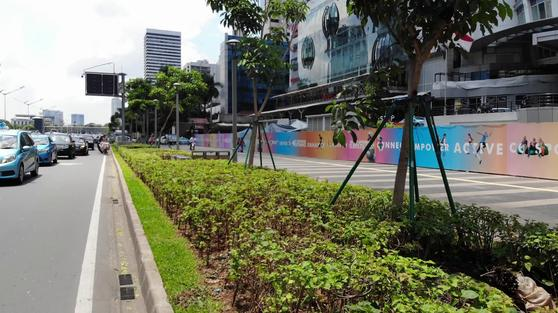bike: (187, 139, 198, 151)
